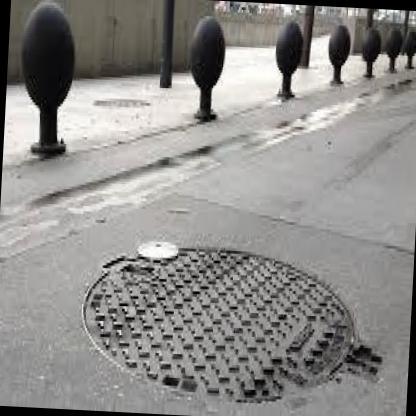manholes: (64, 204, 402, 416)
